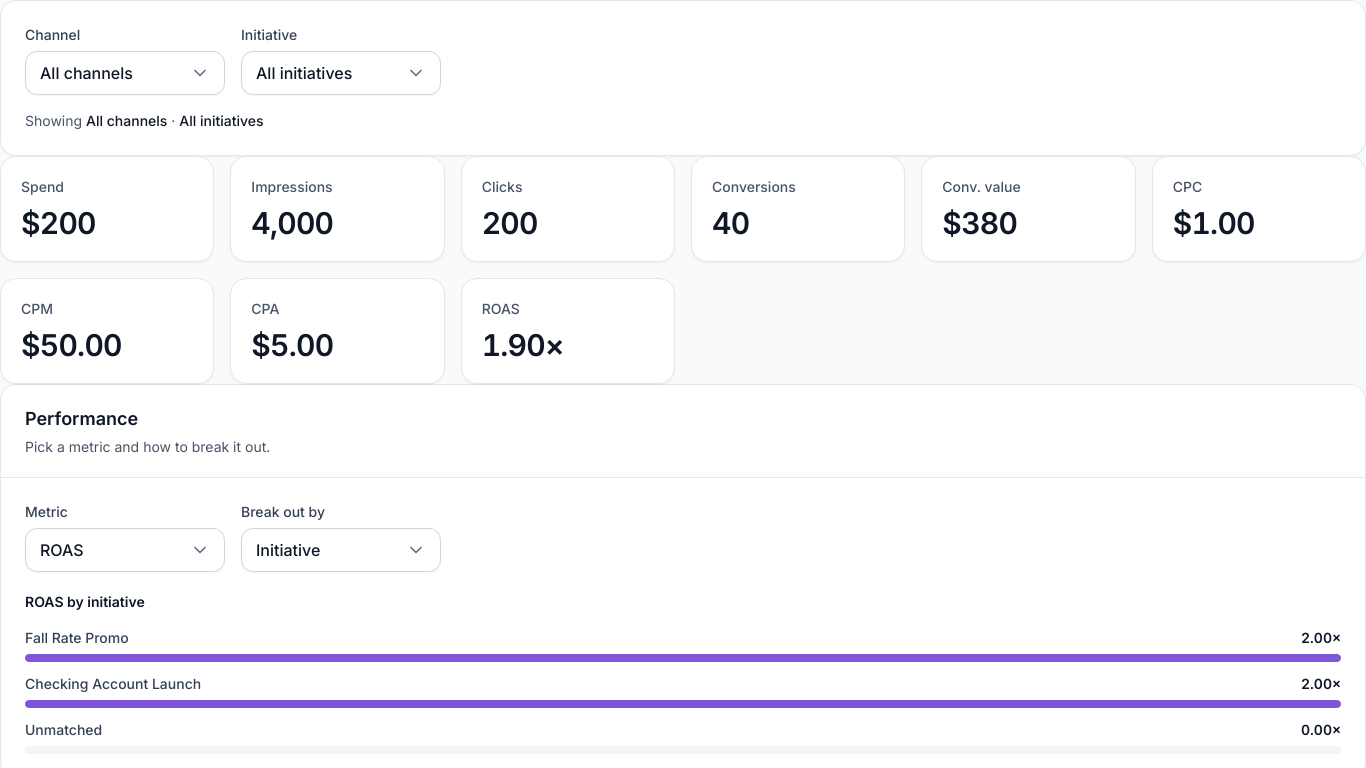
Dashboard › filters by channel and can clear filters
Click the button "All channels". click: x=125, y=73
box: x1=25 y1=51 x2=225 y2=95
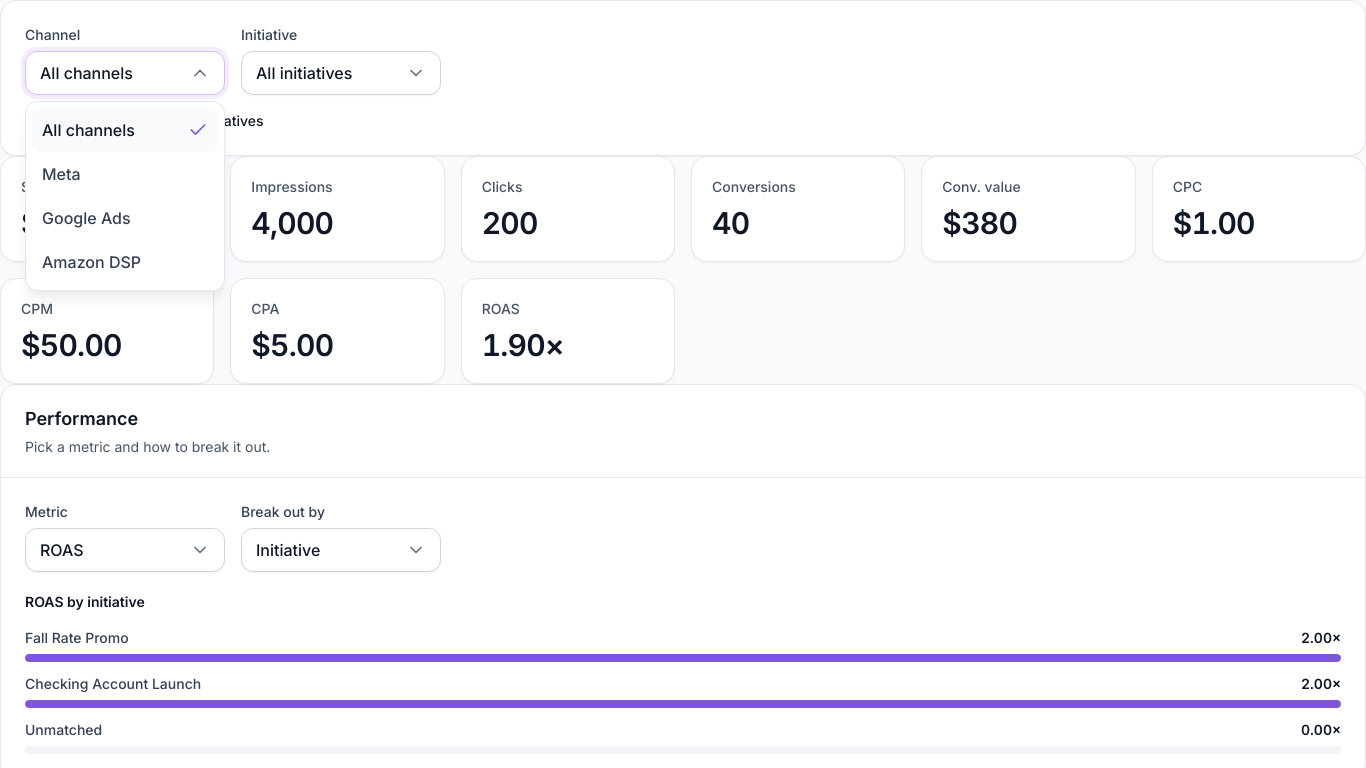
Click the option "Meta". click: x=125, y=174
box: x1=32 y1=152 x2=218 y2=196
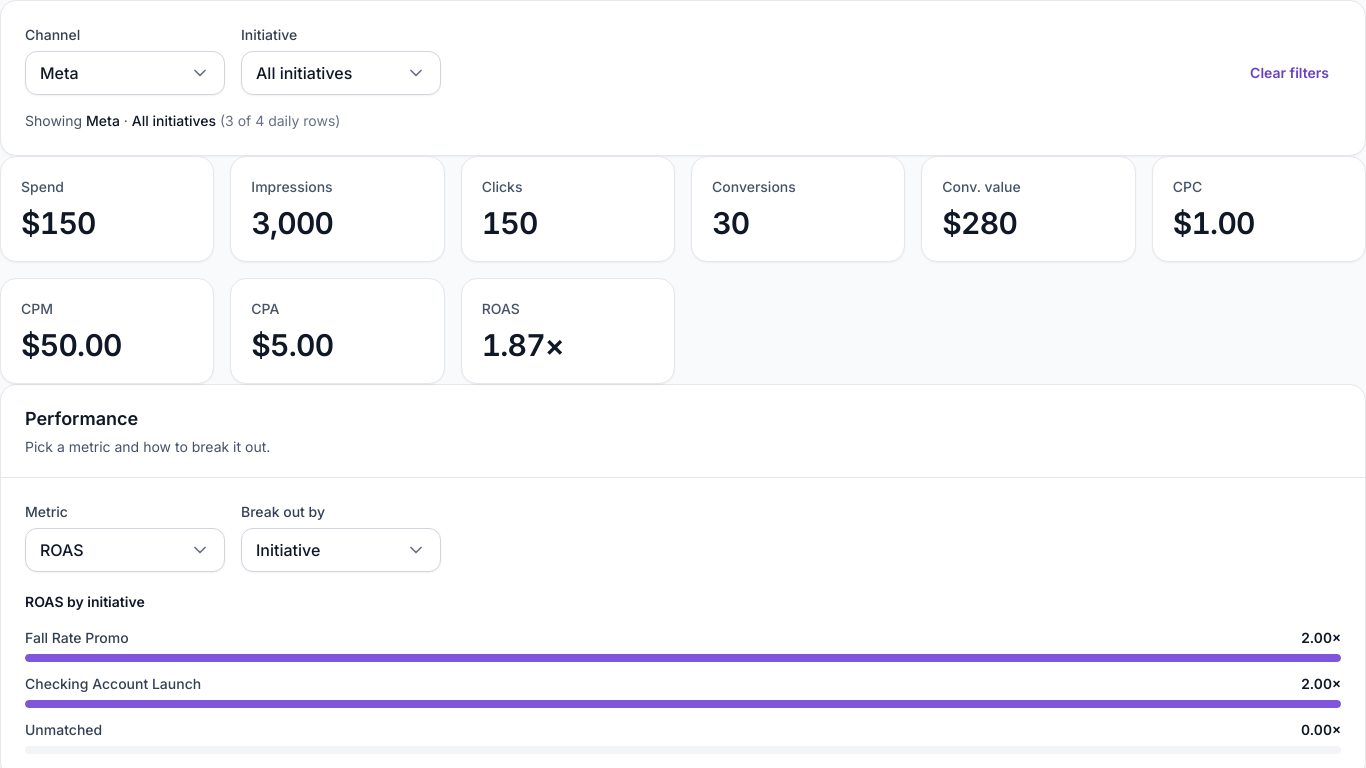
Now the text "Showing Meta · All initiatives (3 of 4 daily rows)" is shown, box x1=25 y1=112 x2=340 y2=129
Now the text "(3 of 4 daily rows)" is shown, box x1=216 y1=112 x2=340 y2=129
Click the button "Clear filters". click: x=1290, y=73
box: x1=1238 y1=51 x2=1341 y2=95
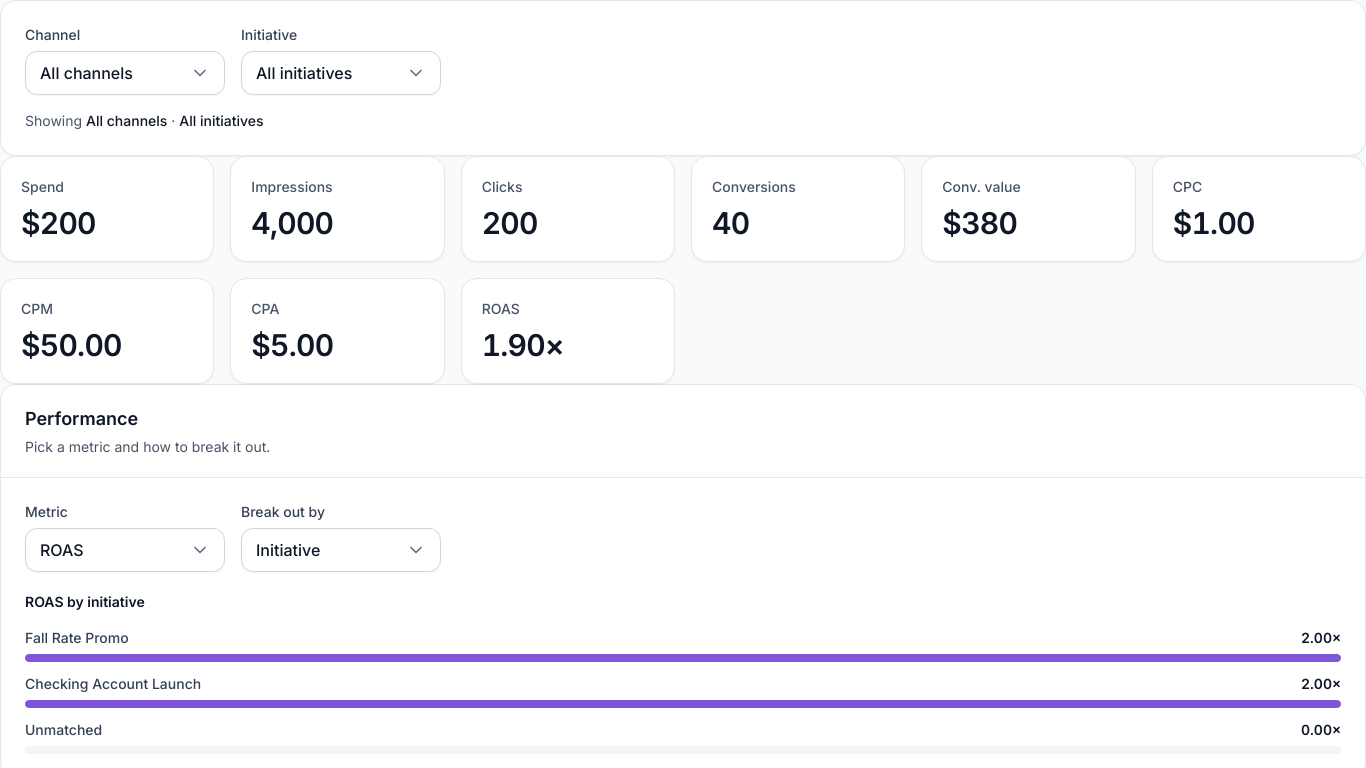
Now the text "daily rows" is gone
